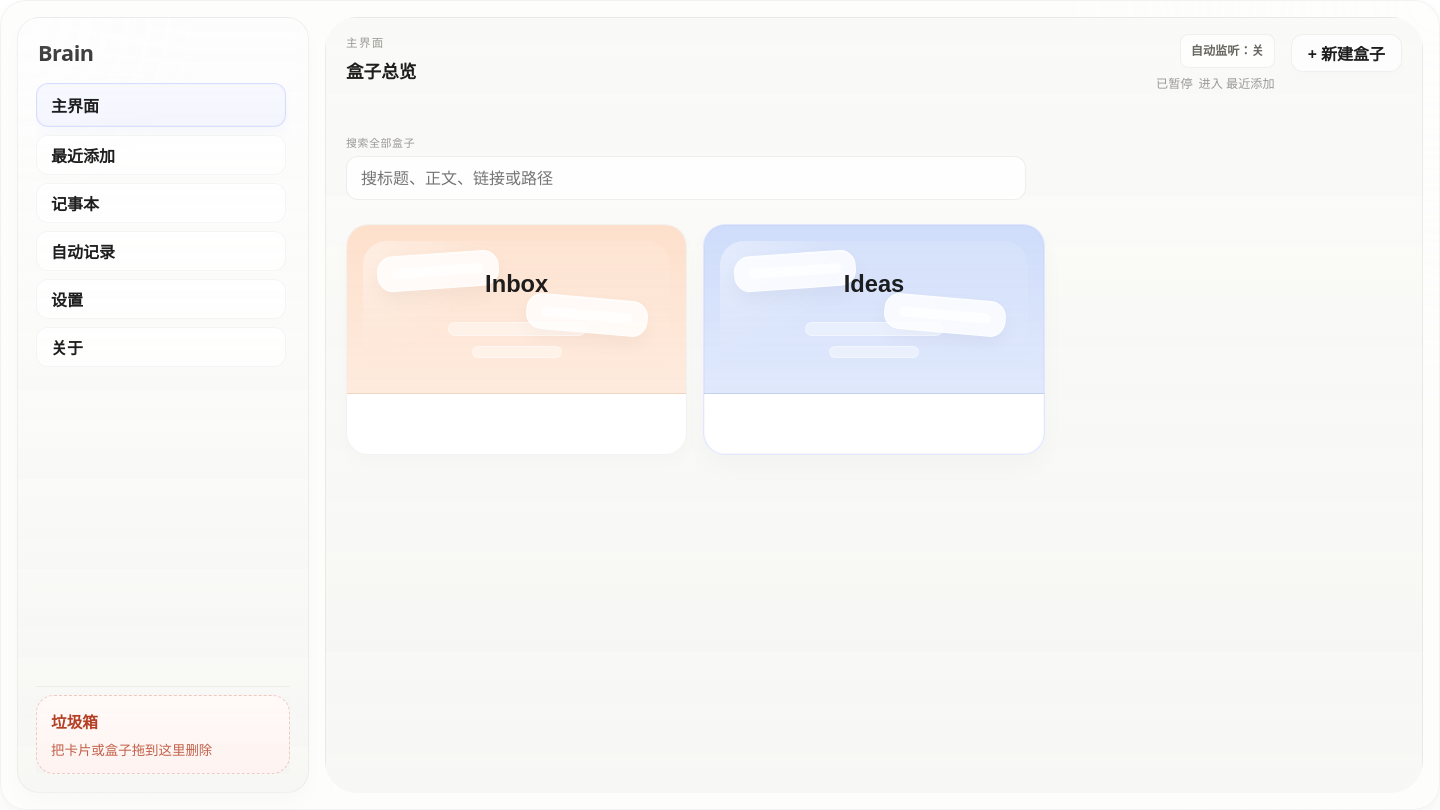
App › captures a notepad idea into a standalone notepad group
Click the button with aria-label "打开记事本": (161, 203) [36,183,286,223]
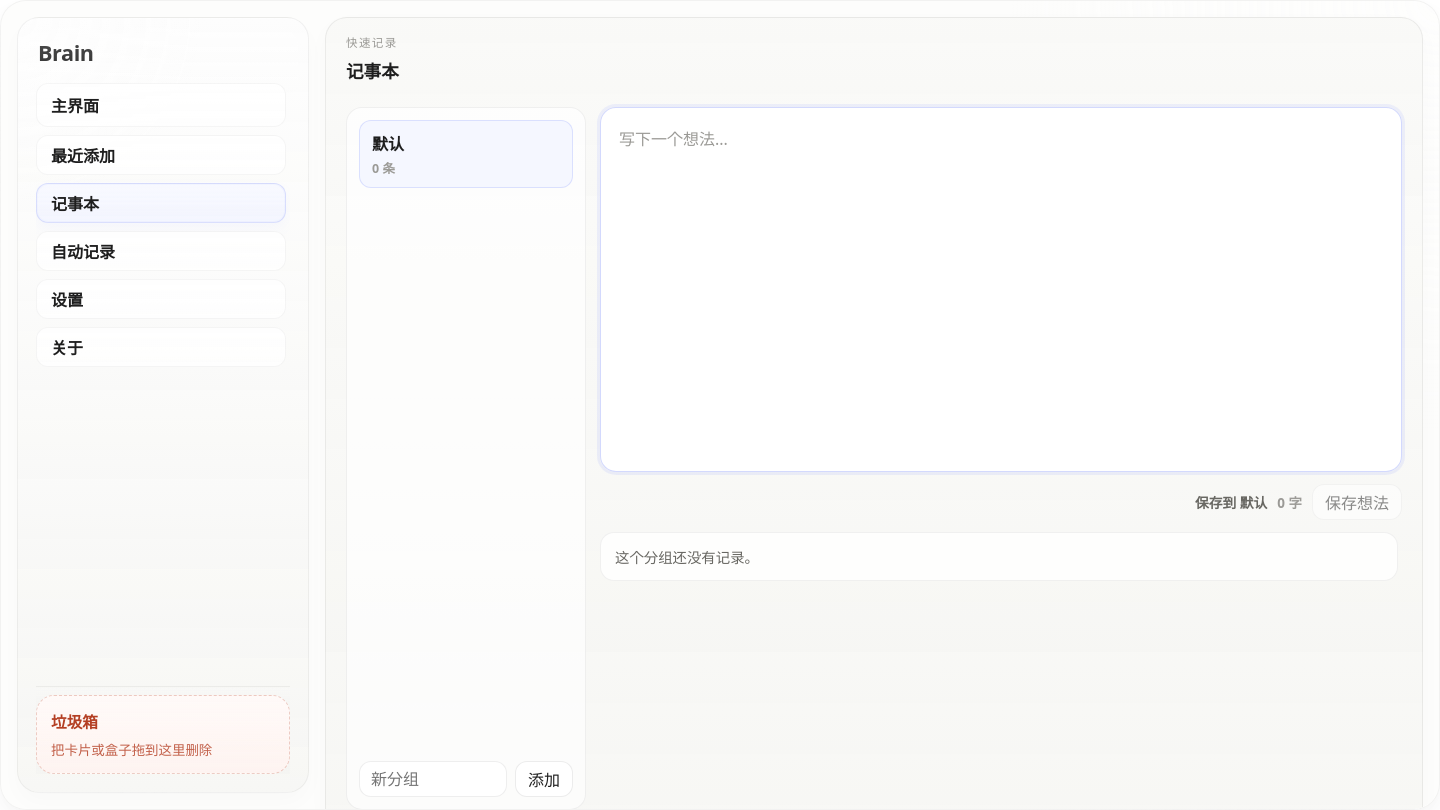
In the text box named "记事本内容": (1001, 289) [600,107,1402,472], type "Notepad idea"
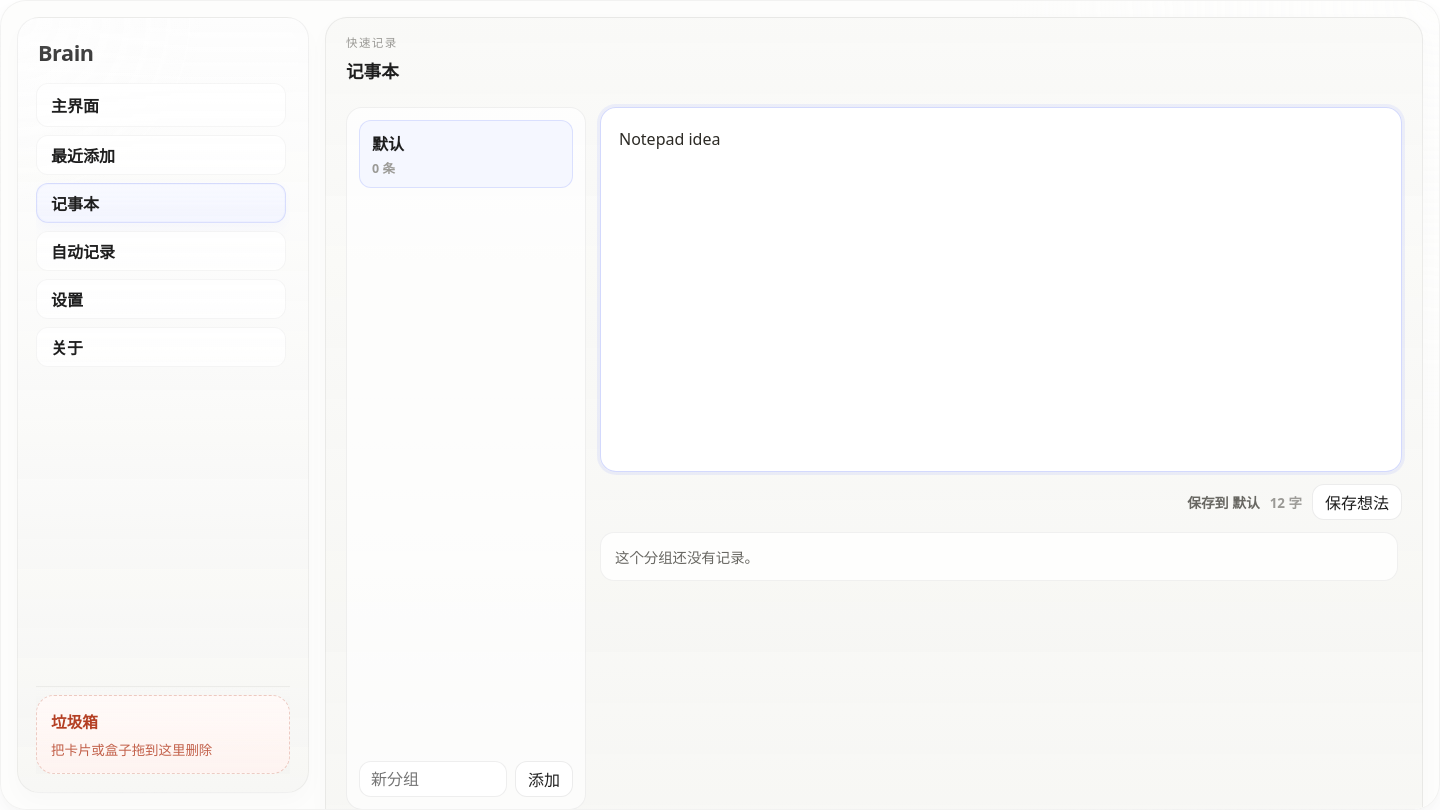
Click the button "保存想法": (1357, 502) [1312,484,1402,520]
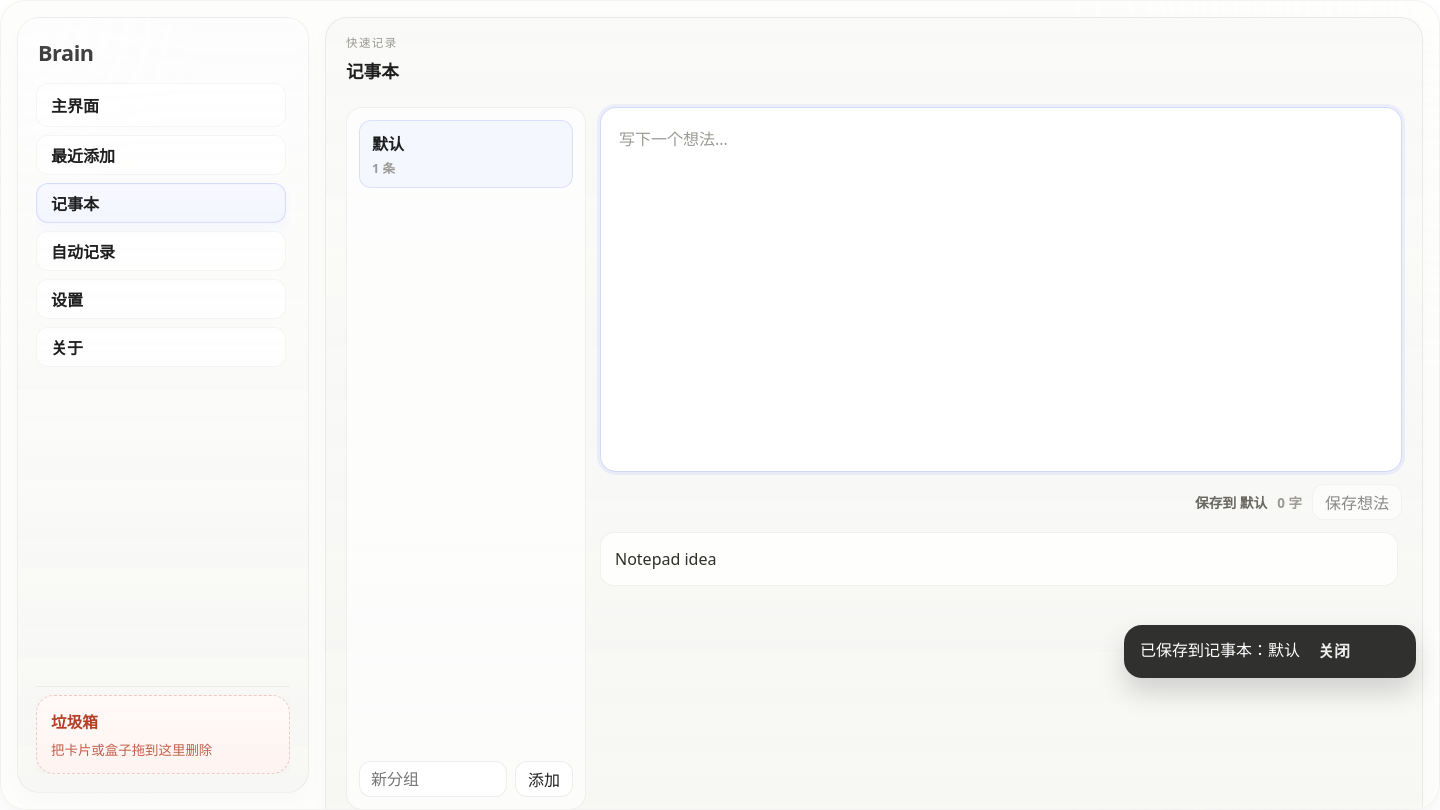
Check: the text "已保存到记事本：默认" is shown, box [1140,639,1300,662]
Check: the text "Notepad idea" is shown, box [615,548,716,570]
